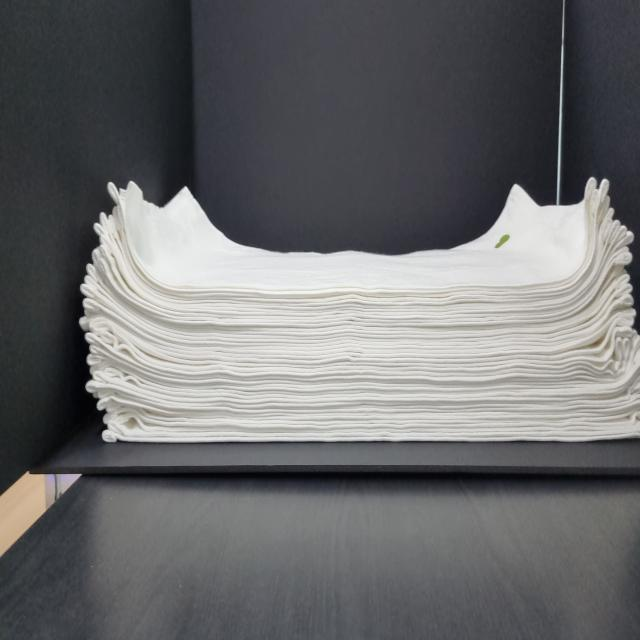not_50count_towel: (70, 162, 640, 454)
